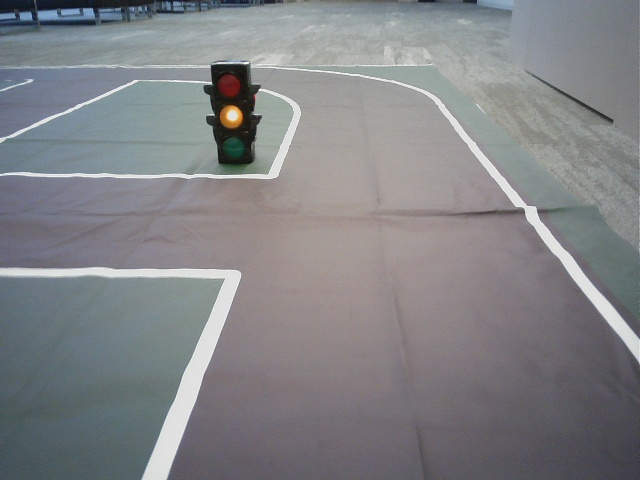yellow: (215, 64, 249, 164)
